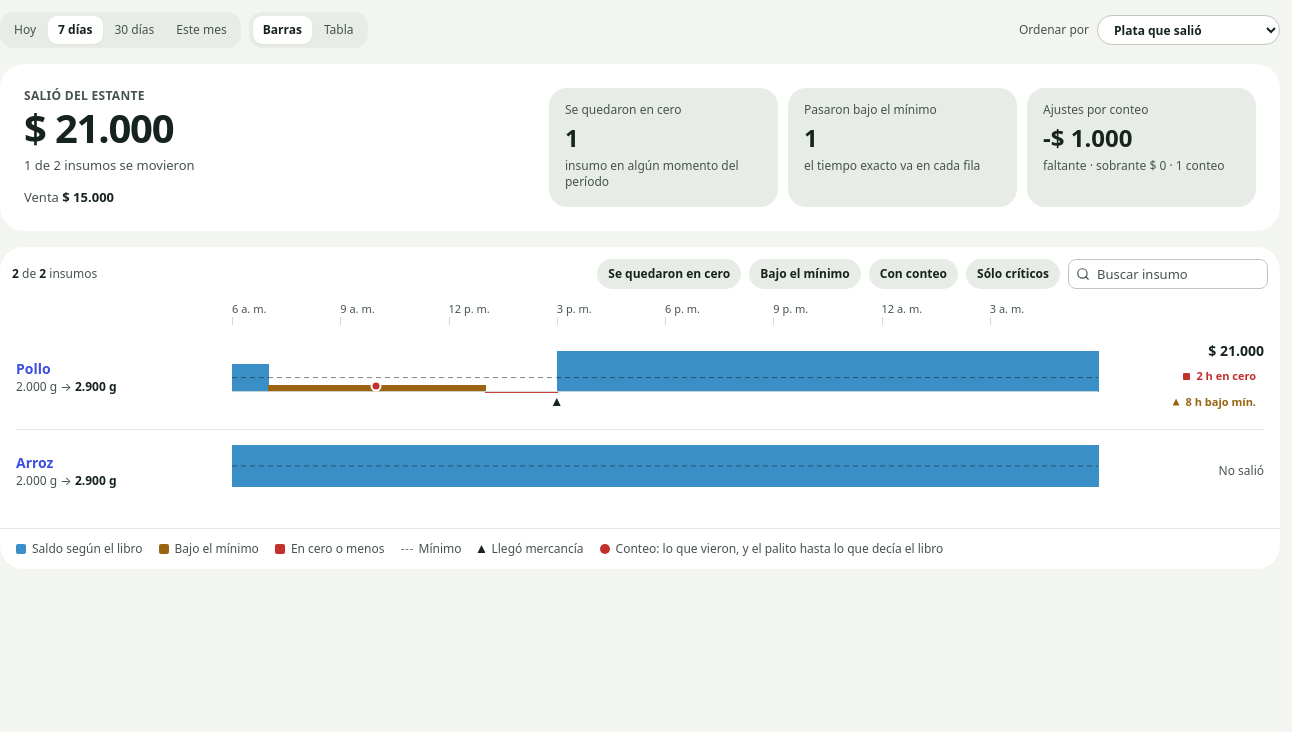
Scenario: LineaDeTiempoTab › filtra lo que ya llegó y pasa a la tabla con la misma respuesta
Expected: the text "Salió del estante" is shown, top-left (24, 87), bottom-right (145, 104)
Click the button "Se quedaron en cero": (669, 274) top-left (597, 259), bottom-right (741, 289)
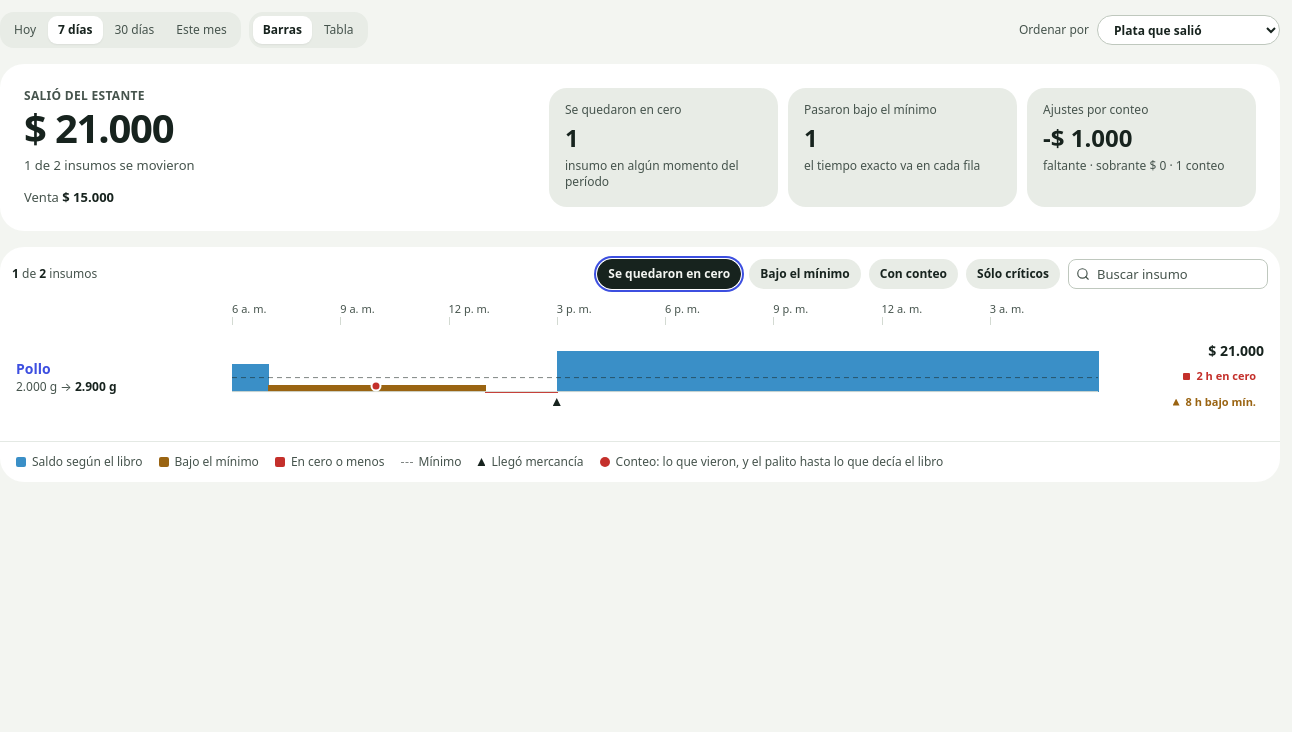
Click the button "Tabla": (339, 30) top-left (314, 16), bottom-right (364, 44)
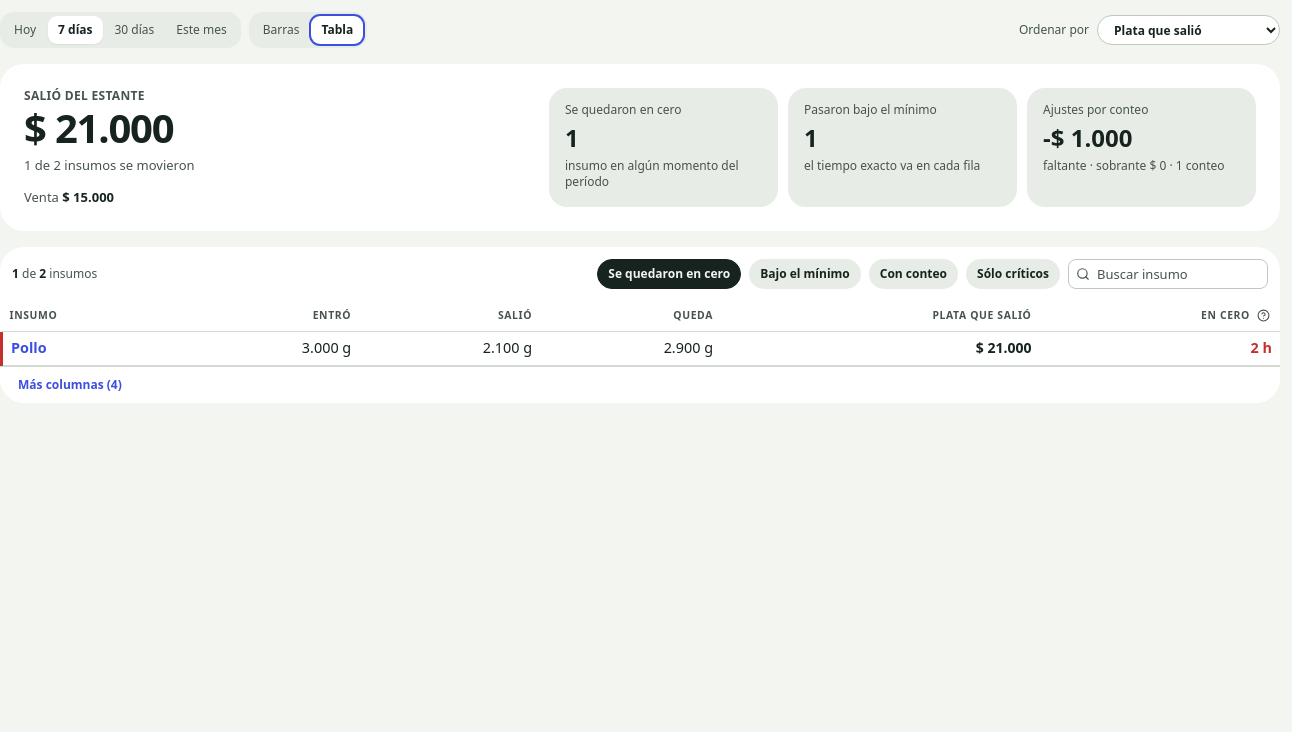
Expected: the link "Pollo" is shown, top-left (11, 338), bottom-right (47, 357)
Result: the table is shown at top-left (0, 301), bottom-right (1280, 366)
